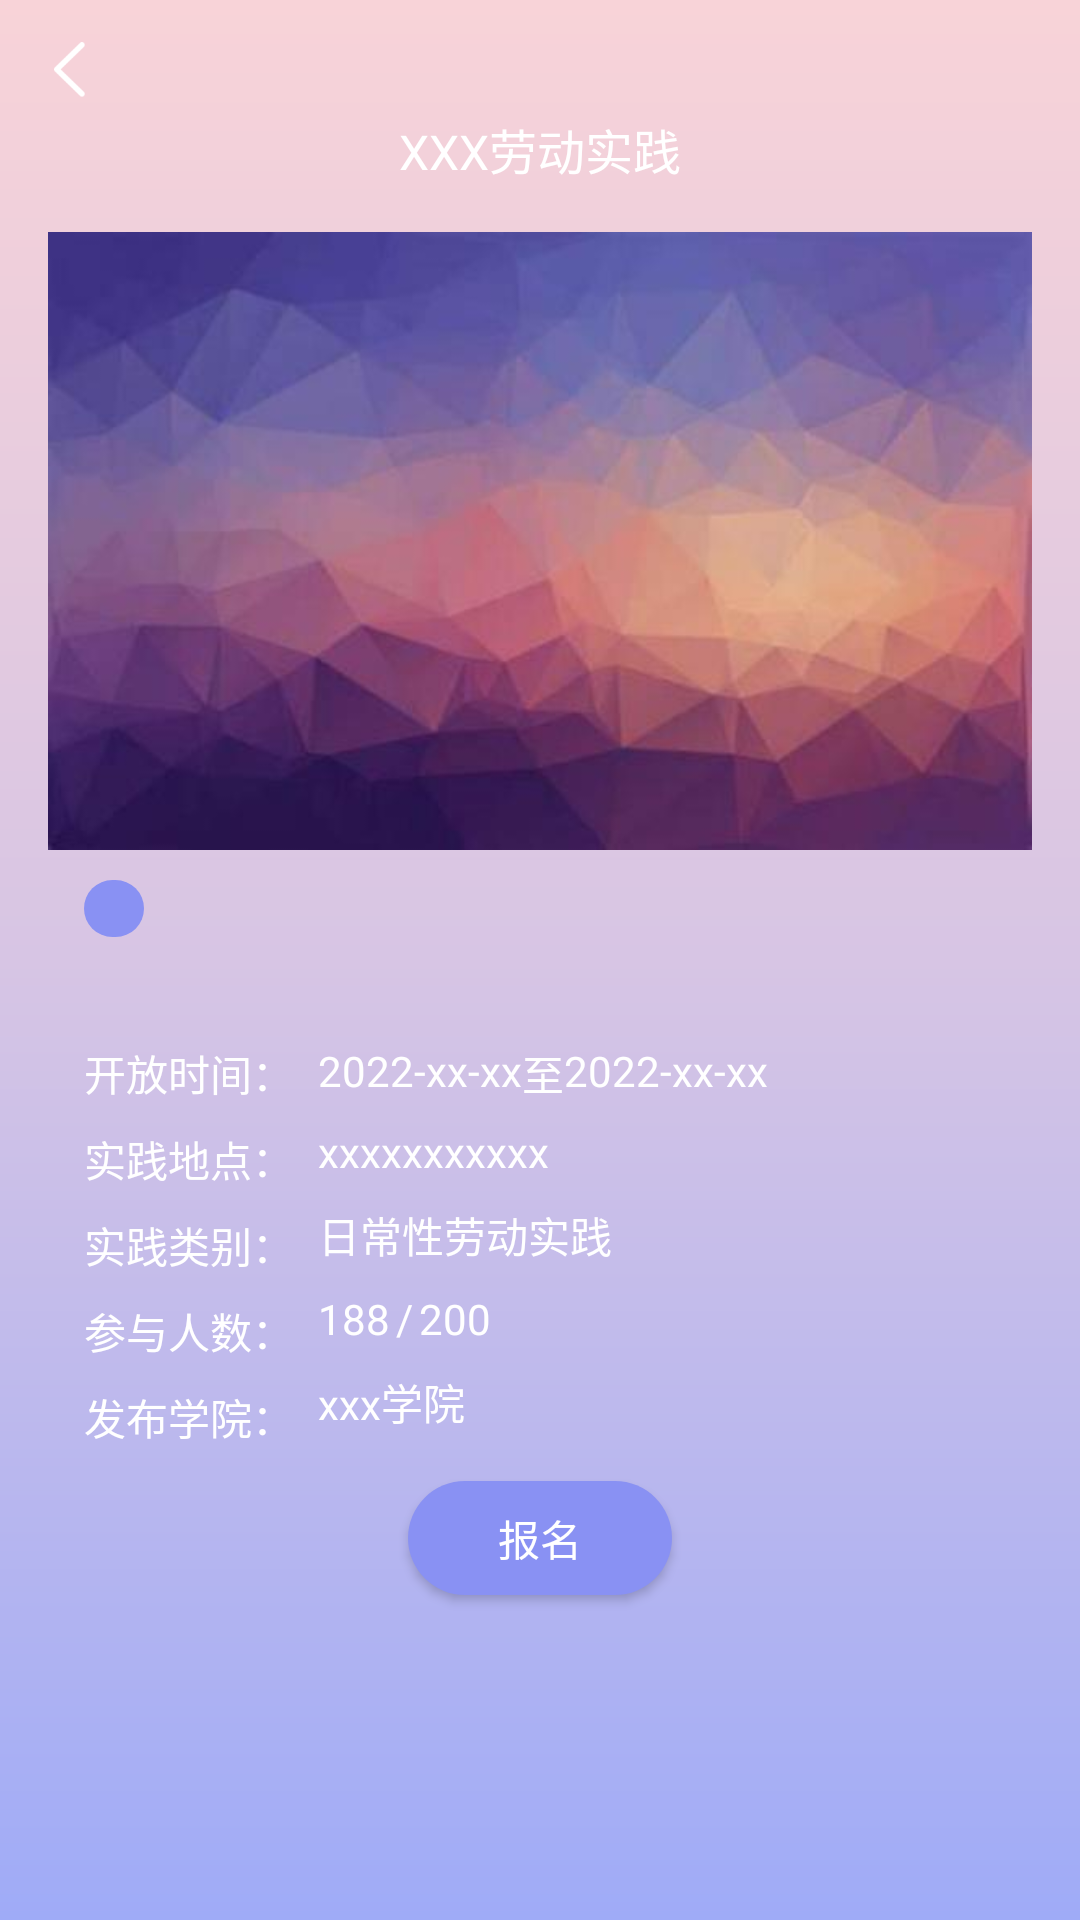

Icon click points for this 1080*1920 phone screenshot, format point (x, y):
return back: point (69, 69)
